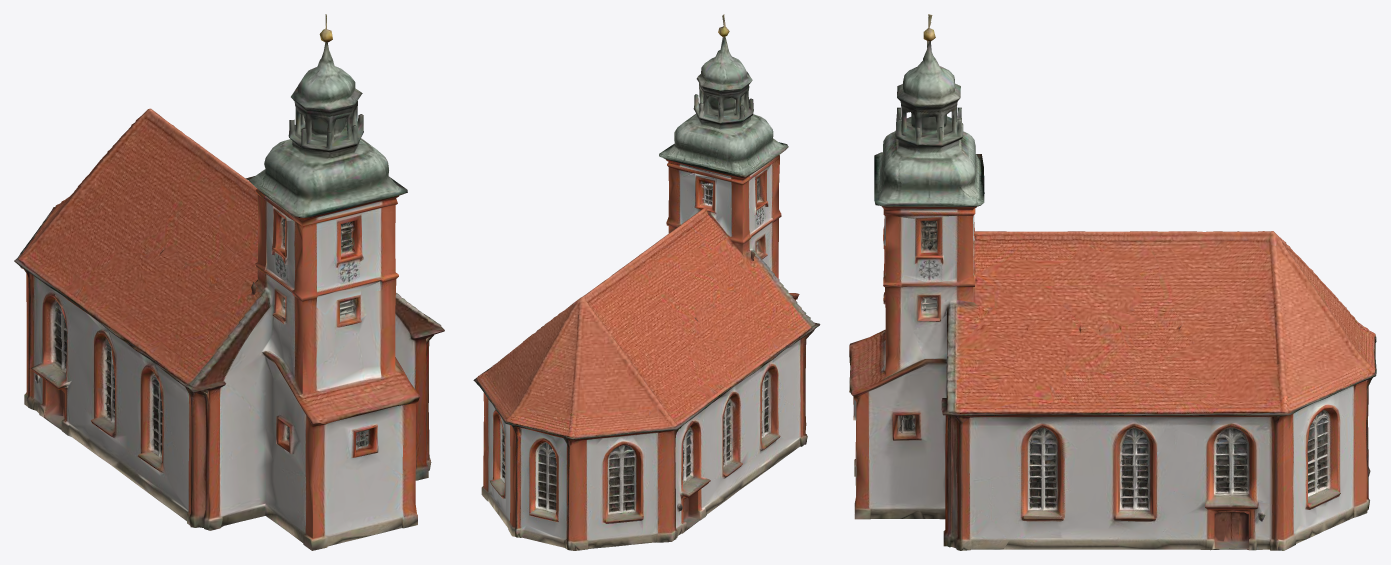
File: kirche_spitzk.glb
3 views of the same model, side by side, from view 1: azimuth 30°, elevation 25°; view 2: azimuth 150°, elevation 25°; view 3: azimuth 270°, elevation 25° (orthographic). The views are drawn at different scales.
Parts seen in each view (by area): view 1: tripo_node_2f224085-8fe2-4570-8cc3-fa057243c301; view 2: tripo_node_2f224085-8fe2-4570-8cc3-fa057243c301; view 3: tripo_node_2f224085-8fe2-4570-8cc3-fa057243c301.
Part boxes in pixels (<box>): tripo_node_2f224085-8fe2-4570-8cc3-fa057243c301: <box>14,14,444,550</box>; tripo_node_2f224085-8fe2-4570-8cc3-fa057243c301: <box>473,14,820,550</box>; tripo_node_2f224085-8fe2-4570-8cc3-fa057243c301: <box>849,14,1376,550</box>.
Size of the model in its own units: 0.5369 by 1 by 0.9948.
1 material, 1 textured.
